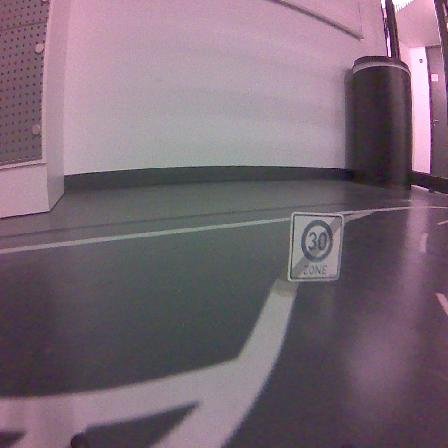30_ZONE_END: (289, 213, 344, 281)
